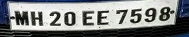0: (64, 10, 76, 27)
2: (49, 11, 62, 27)
5: (129, 8, 143, 24)
7: (115, 8, 128, 25)
8: (159, 5, 171, 22)
9: (144, 7, 157, 23)
E: (96, 10, 110, 26), (82, 9, 95, 26)
H: (30, 10, 45, 27)
M: (14, 9, 30, 27)
